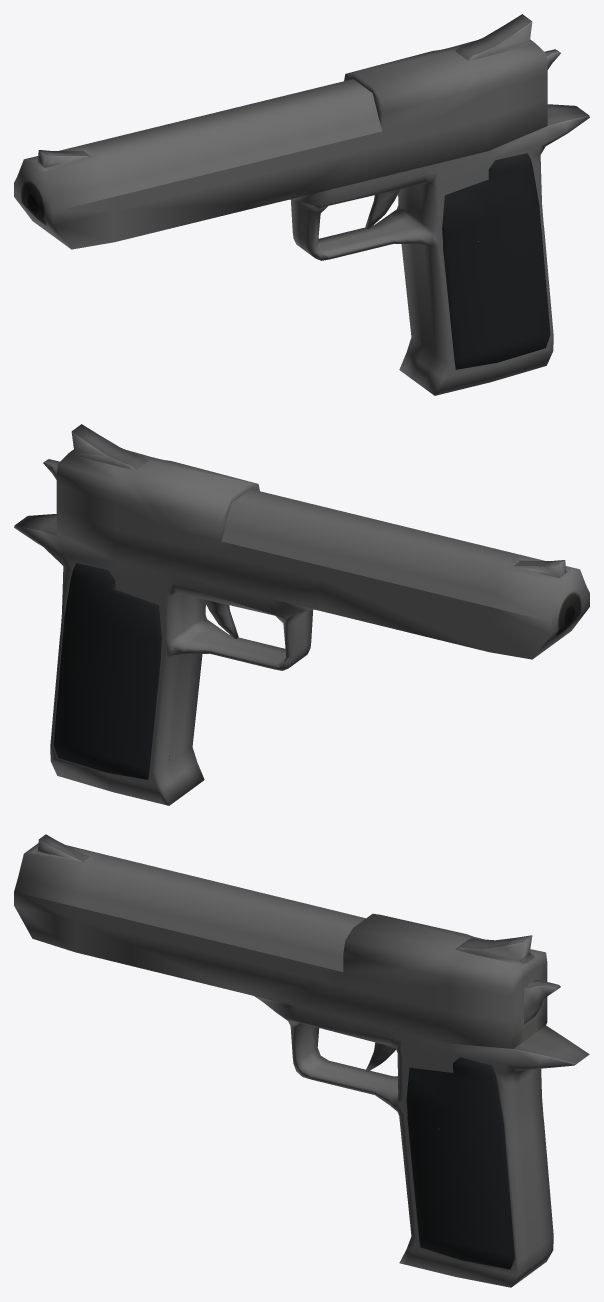
The model's file is Pistol.fbx.
The picture shows the model from 3 angles, top to bottom: view 1: azimuth 30°, elevation 25°; view 2: azimuth 150°, elevation 25°; view 3: azimuth 330°, elevation 25°; orthographic projection.
Parts seen in each view (by area): view 1: Gun; view 2: Gun; view 3: Gun.
Part boxes in pixels (x1,y1,x2,y2): Gun: (14, 14, 589, 395); Gun: (14, 424, 589, 805); Gun: (14, 834, 589, 1287).
Bounding box in the file's own units: 37.86 × 22.27 × 4.7.
